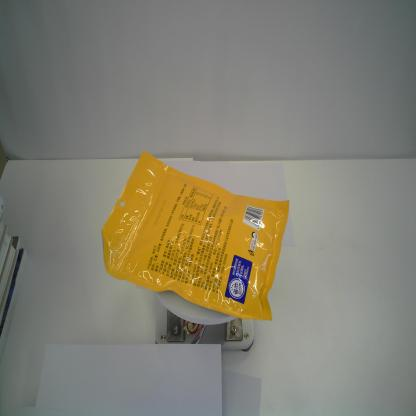Dried Fruit: (100, 150, 290, 322)
